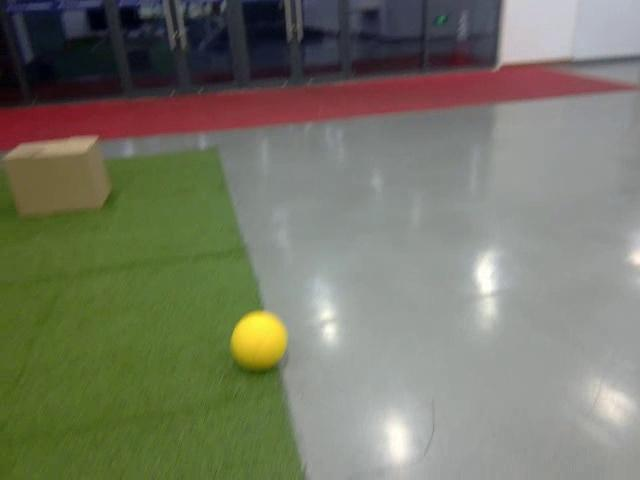yellow_ball: (228, 311, 290, 374)
